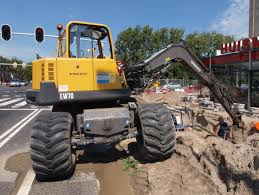excavator: (29, 21, 247, 172)
